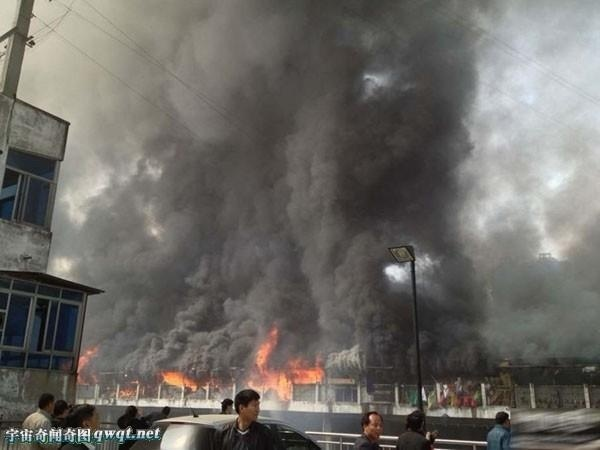fire: (252, 329, 324, 398), (75, 345, 98, 382), (162, 369, 198, 388), (117, 378, 140, 397)
